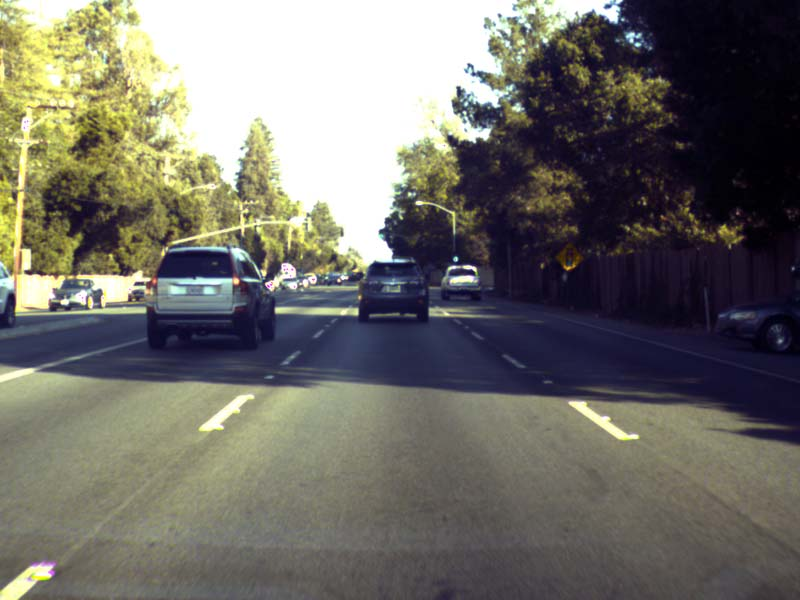Green: (451, 254, 459, 262)
